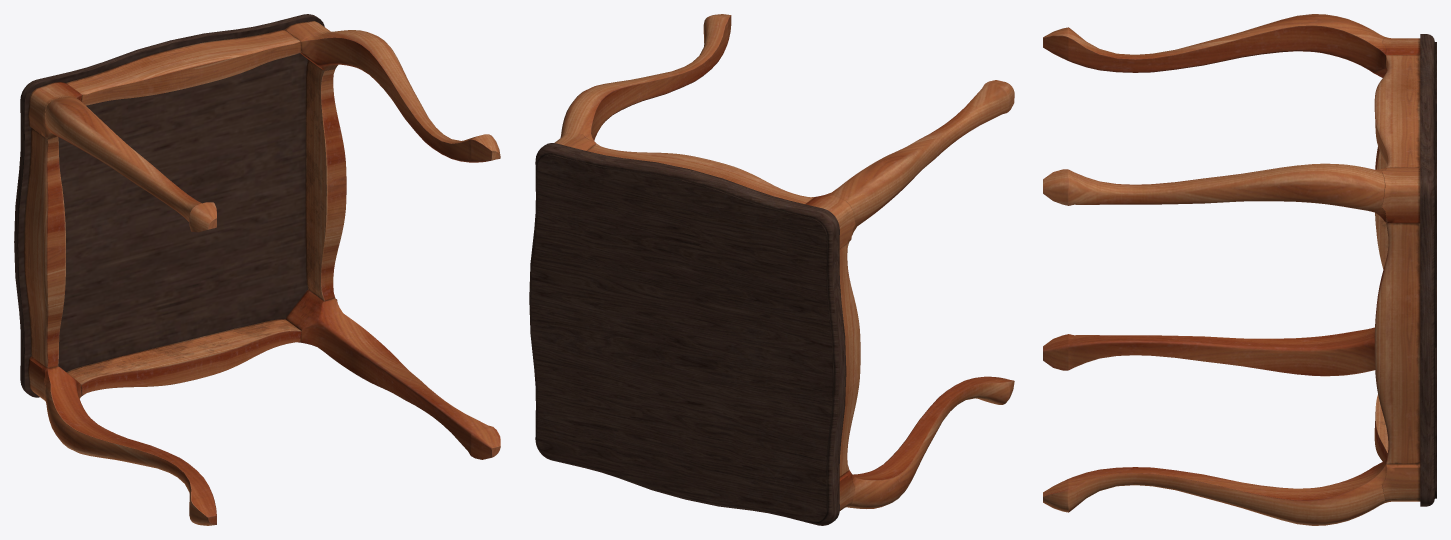
File: smallTable02.glb
3 renders of one model, left to right at view 1: azimuth 30°, elevation 25°; view 2: azimuth 150°, elevation 25°; view 3: azimuth 270°, elevation 25°, orthographic. The views are drawn at different scales.
Visible parts, largest first — view 1: Object_2; view 2: Object_2; view 3: Object_2.
Part boxes in pixels (x1,y1,x2,y2): Object_2: (14, 14, 500, 525); Object_2: (529, 14, 1014, 525); Object_2: (1043, 14, 1436, 525).
Bounding box in the file's own units: 59.84 × 59.85 × 59.89.
1 material, 1 textured.
